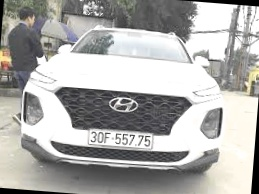Bien-so: (87, 127, 153, 149)
